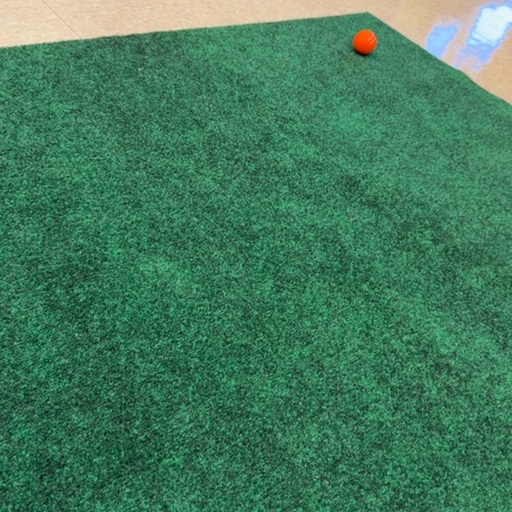Ball: (353, 30, 377, 55)
